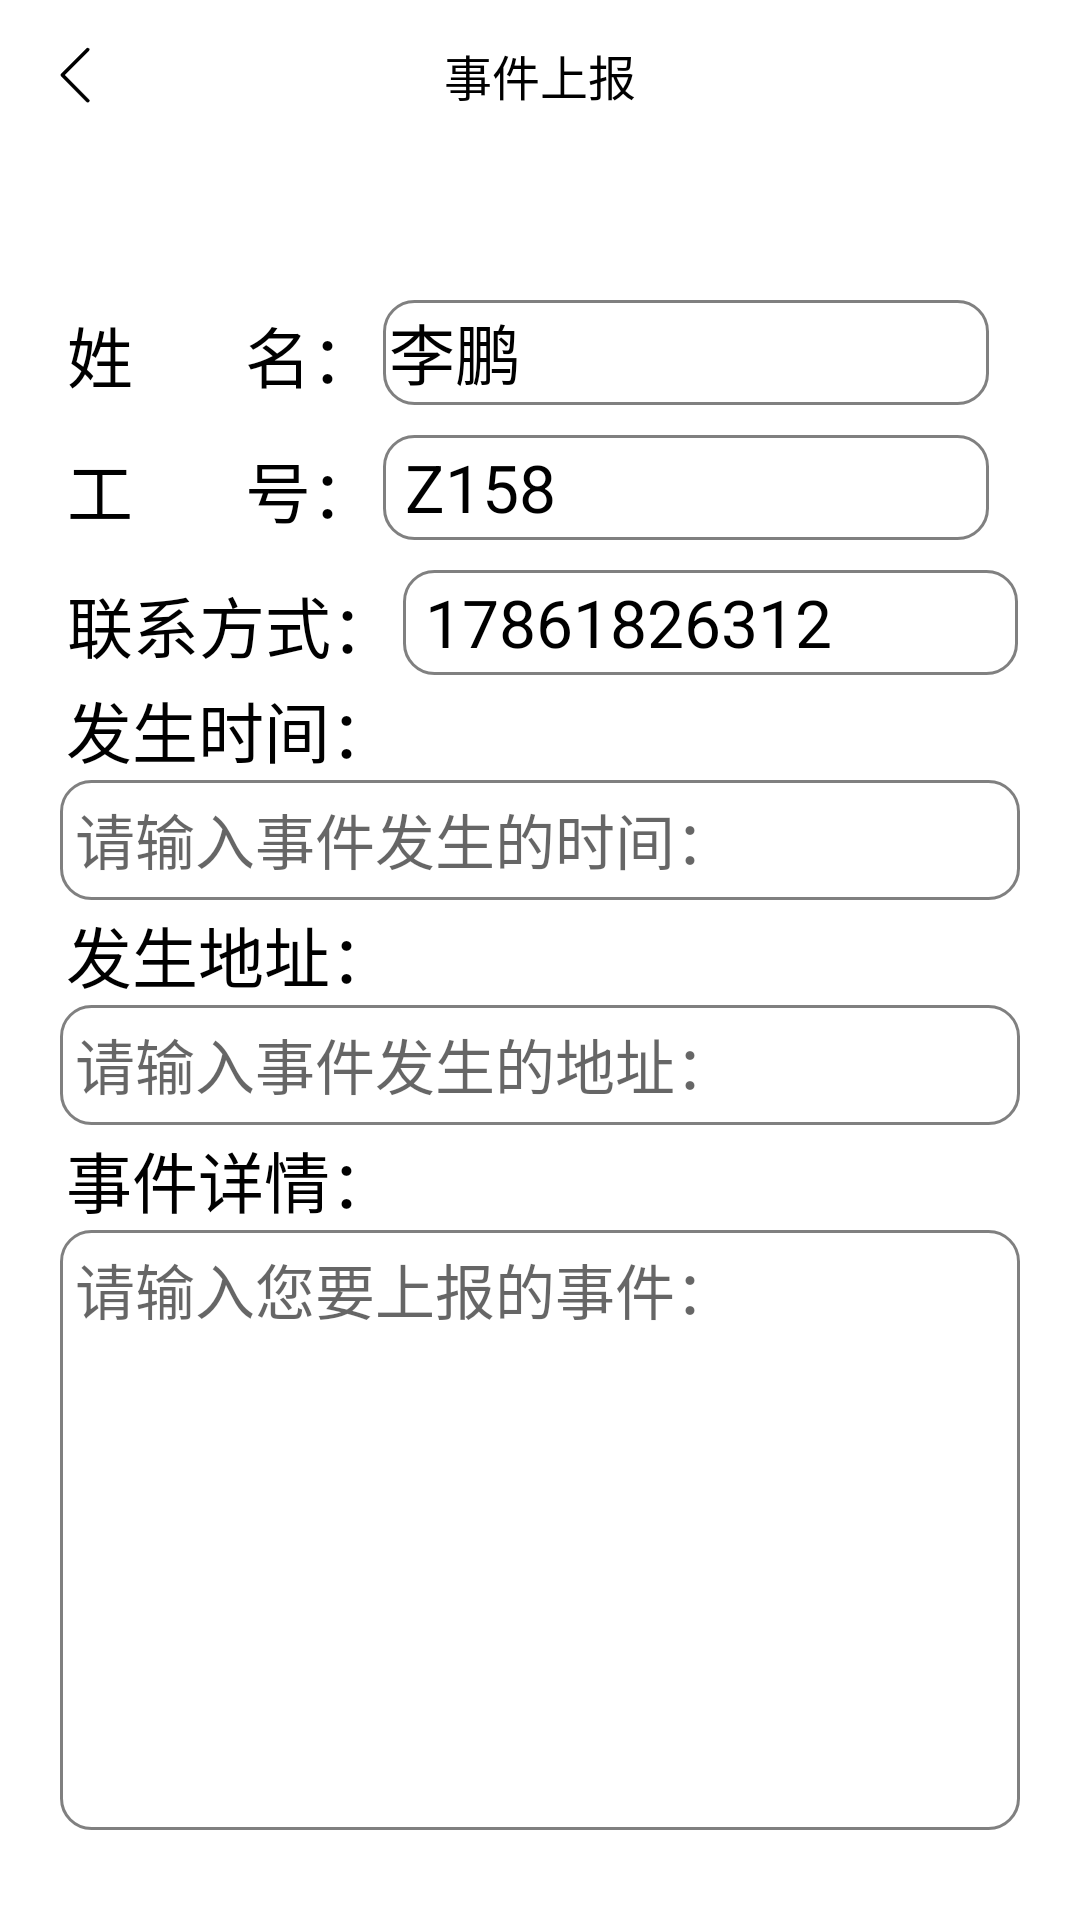

Where icons sit on this 1080 × 1920 app screen, as (x1, y1, x2, y2):
fanhui: (60, 47, 90, 103)
